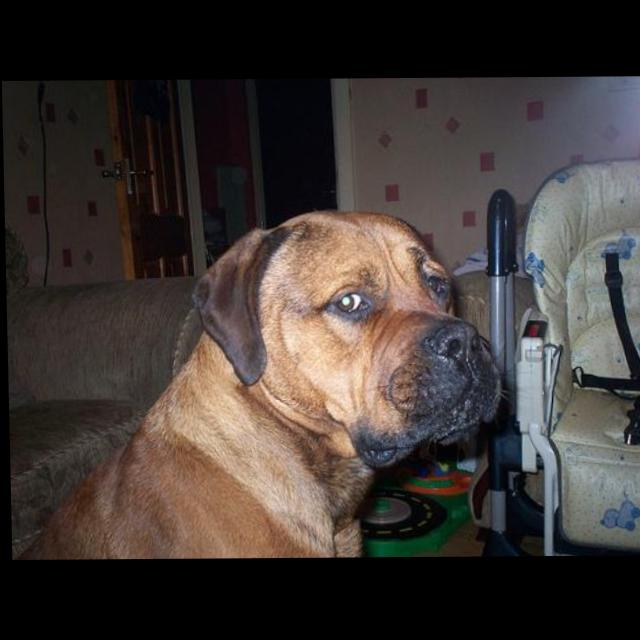bullmastiff: (5, 208, 508, 559)
